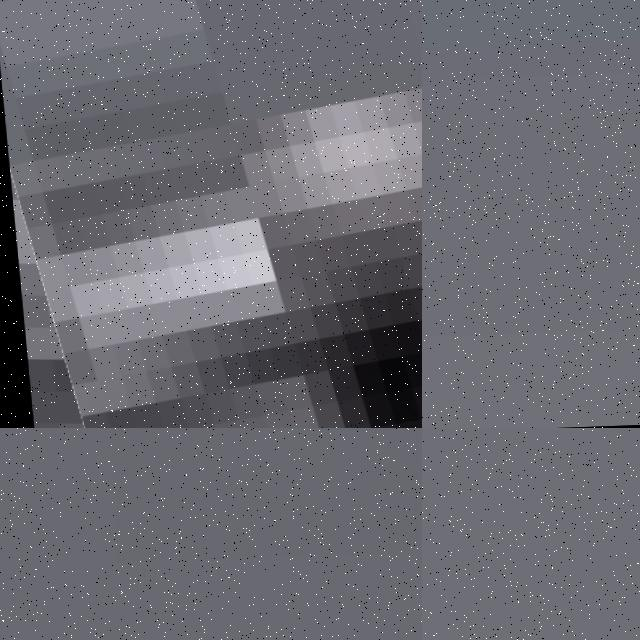drone: (0, 0, 422, 428)
